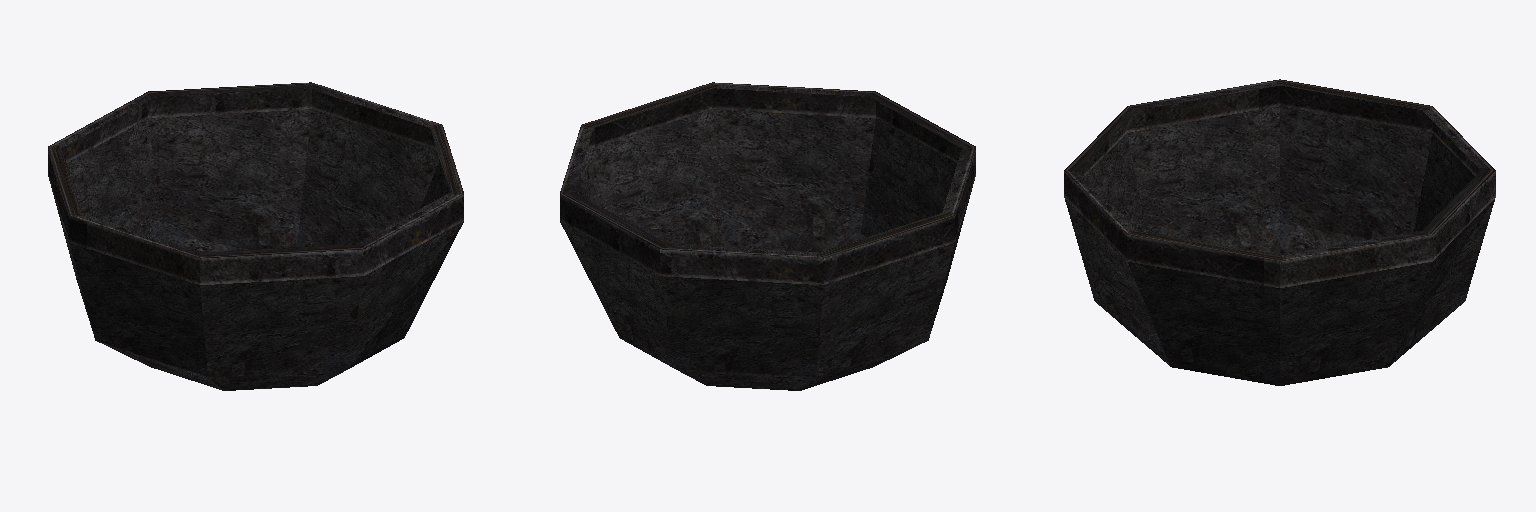
3 renders of one model, left to right at view 1: azimuth 30°, elevation 25°; view 2: azimuth 150°, elevation 25°; view 3: azimuth 270°, elevation 25°, orthographic.
Visible parts, largest first — view 1: Default_Layer; view 2: Default_Layer; view 3: Default_Layer.
Boxes of the visible parts, box(x1,y1,x2,y2) form: Default_Layer: box(48, 82, 463, 390); Default_Layer: box(560, 82, 975, 390); Default_Layer: box(1064, 79, 1495, 385).
Bounding box in the file's own units: 1.28 × 0.5579 × 1.28.
1 materials, 1 textured.